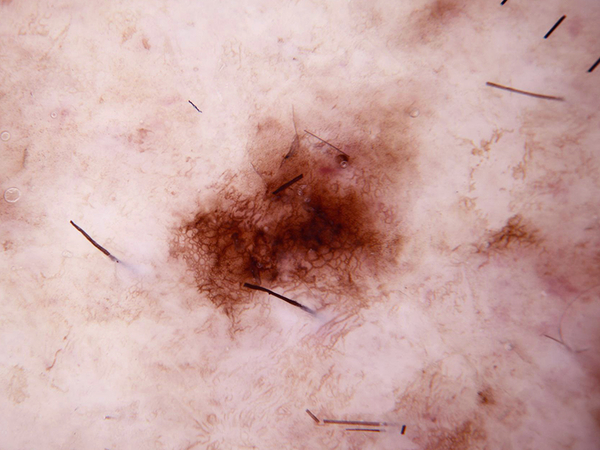Detected Lesion: (165, 128, 411, 322)
